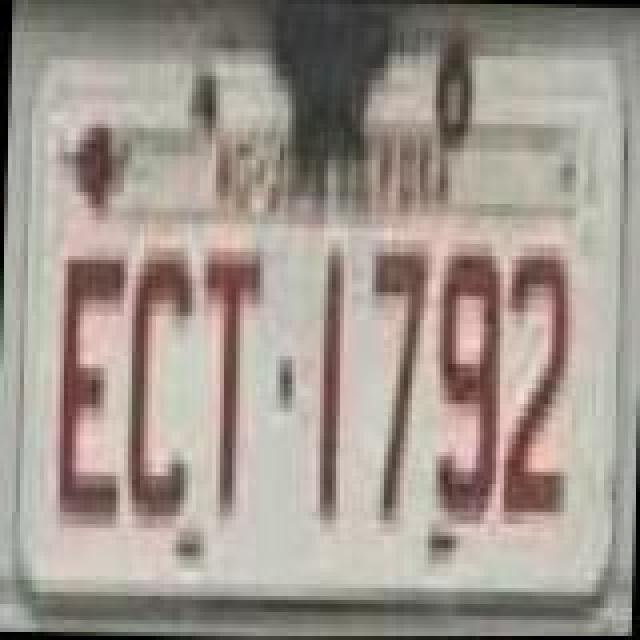1: (308, 234, 352, 530)
2: (496, 242, 572, 526)
7: (360, 242, 436, 526)
9: (426, 238, 506, 538)
C: (118, 236, 198, 536)
E: (50, 242, 130, 542)
T: (192, 236, 268, 520)
